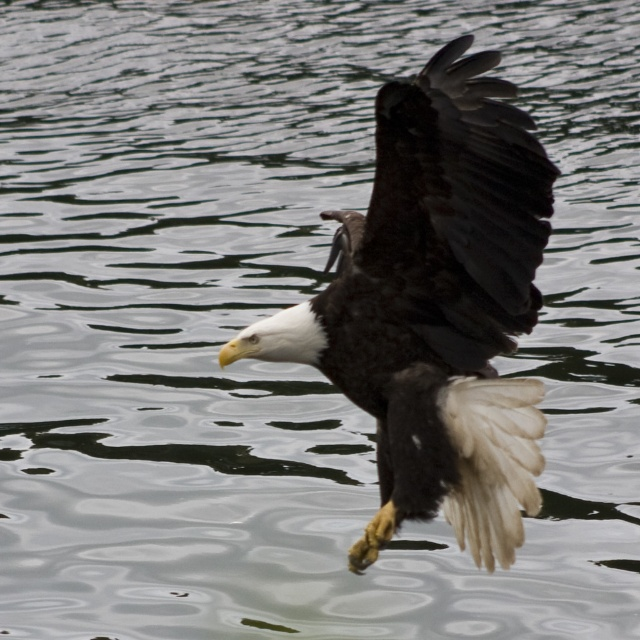Eagle: (213, 32, 565, 588)
